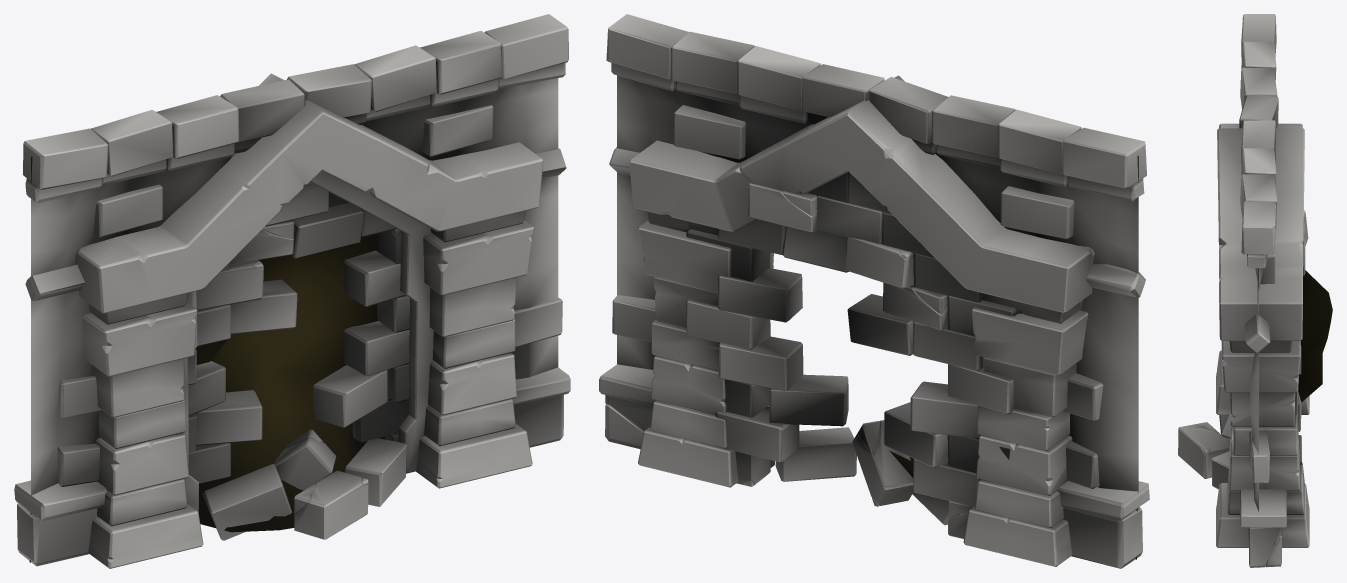
Rendered from wall_archPointy_bricksBroken.FBX.
3 renders of one model, left to right at view 1: azimuth 30°, elevation 25°; view 2: azimuth 150°, elevation 25°; view 3: azimuth 270°, elevation 25°, orthographic. The views are drawn at different scales.
Parts seen in each view (by area): view 1: wall_archPointy_bricksBroken; view 2: wall_archPointy_bricksBroken; view 3: wall_archPointy_bricksBroken.
Part boxes in pixels (x1=…): wall_archPointy_bricksBroken: x1=14, y1=14, x2=570, y2=568; wall_archPointy_bricksBroken: x1=599, y1=14, x2=1149, y2=568; wall_archPointy_bricksBroken: x1=1178, y1=14, x2=1332, y2=567.
Bounding box in the file's own units: 8.06 × 6.23 × 2.46.
